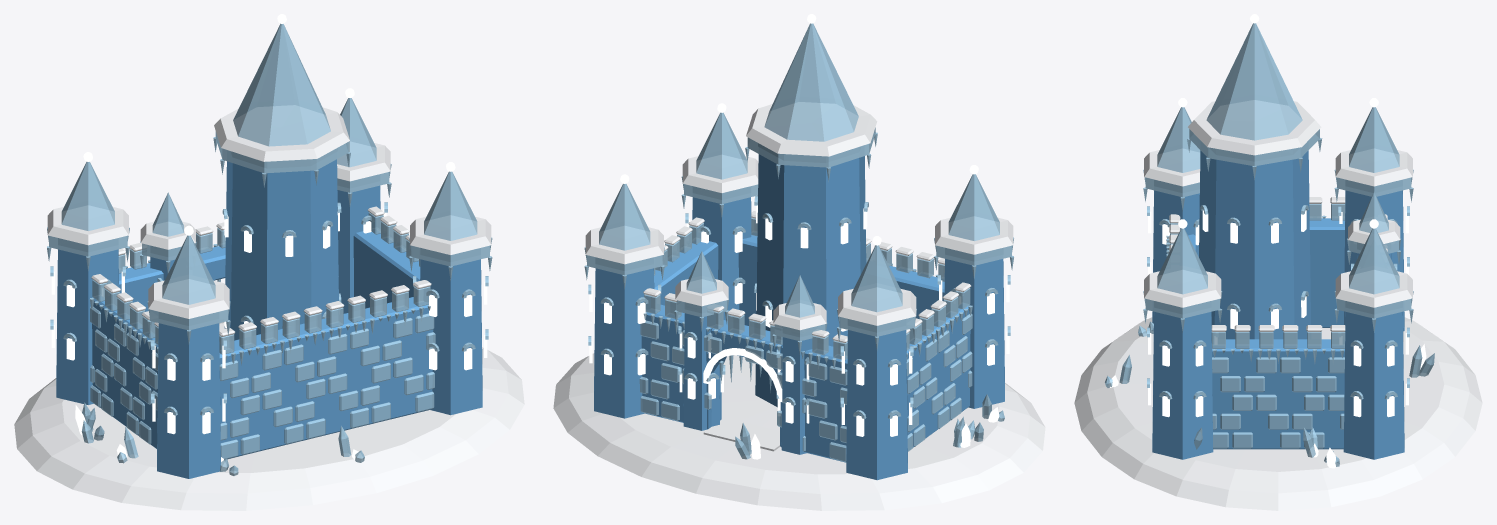
File: IceCastle.fbx
The picture shows the model from 3 angles, left to right: view 1: azimuth 30°, elevation 25°; view 2: azimuth 150°, elevation 25°; view 3: azimuth 270°, elevation 25°; orthographic projection. The views are drawn at different scales.
Parts seen in each view (by area): view 1: IceCastle_IceDeep, IceCastle_Snow, IceCastle, IceCastle_IceGlow; view 2: IceCastle_IceDeep, IceCastle_Snow, IceCastle, IceCastle_IceGlow; view 3: IceCastle_IceDeep, IceCastle_Snow, IceCastle, IceCastle_IceGlow.
Boxes of the visible parts, x1=… form: IceCastle_IceDeep: x1=56, y1=159, x2=482, y2=478; IceCastle_Snow: x1=14, y1=105, x2=524, y2=510; IceCastle: x1=47, y1=23, x2=492, y2=475; IceCastle_IceGlow: x1=51, y1=14, x2=487, y2=469; IceCastle_IceDeep: x1=594, y1=154, x2=1004, y2=480; IceCastle_Snow: x1=553, y1=102, x2=1045, y2=510; IceCastle: x1=584, y1=23, x2=1013, y2=461; IceCastle_IceGlow: x1=589, y1=14, x2=1009, y2=459; IceCastle_IceDeep: x1=1152, y1=150, x2=1404, y2=459; IceCastle_Snow: x1=1074, y1=100, x2=1482, y2=510; IceCastle: x1=1105, y1=23, x2=1434, y2=466; IceCastle_IceGlow: x1=1109, y1=14, x2=1426, y2=468.
Bounding box in the file's own units: 64 × 53.8 × 51.2.
